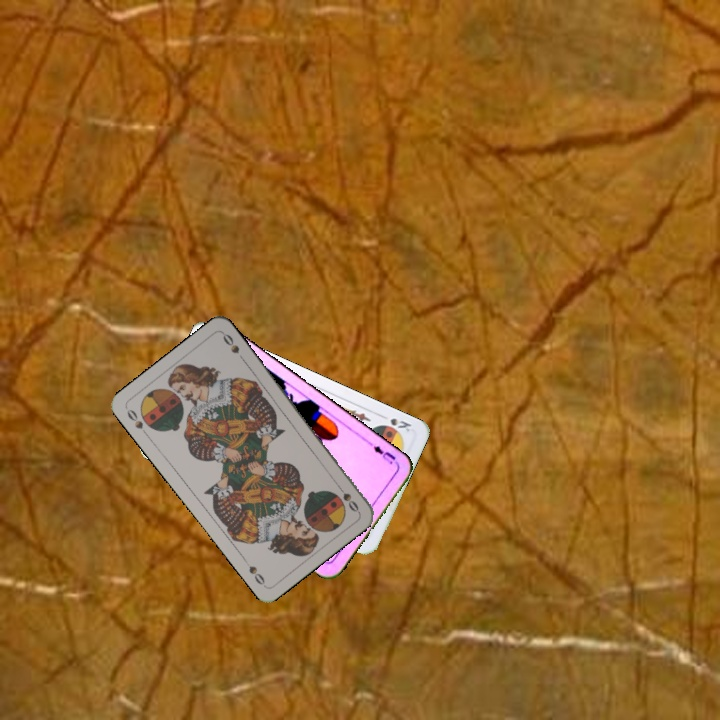EU: (365, 438, 401, 467)
SK: (386, 414, 414, 435)
SO: (332, 480, 362, 515), (123, 405, 151, 439)
